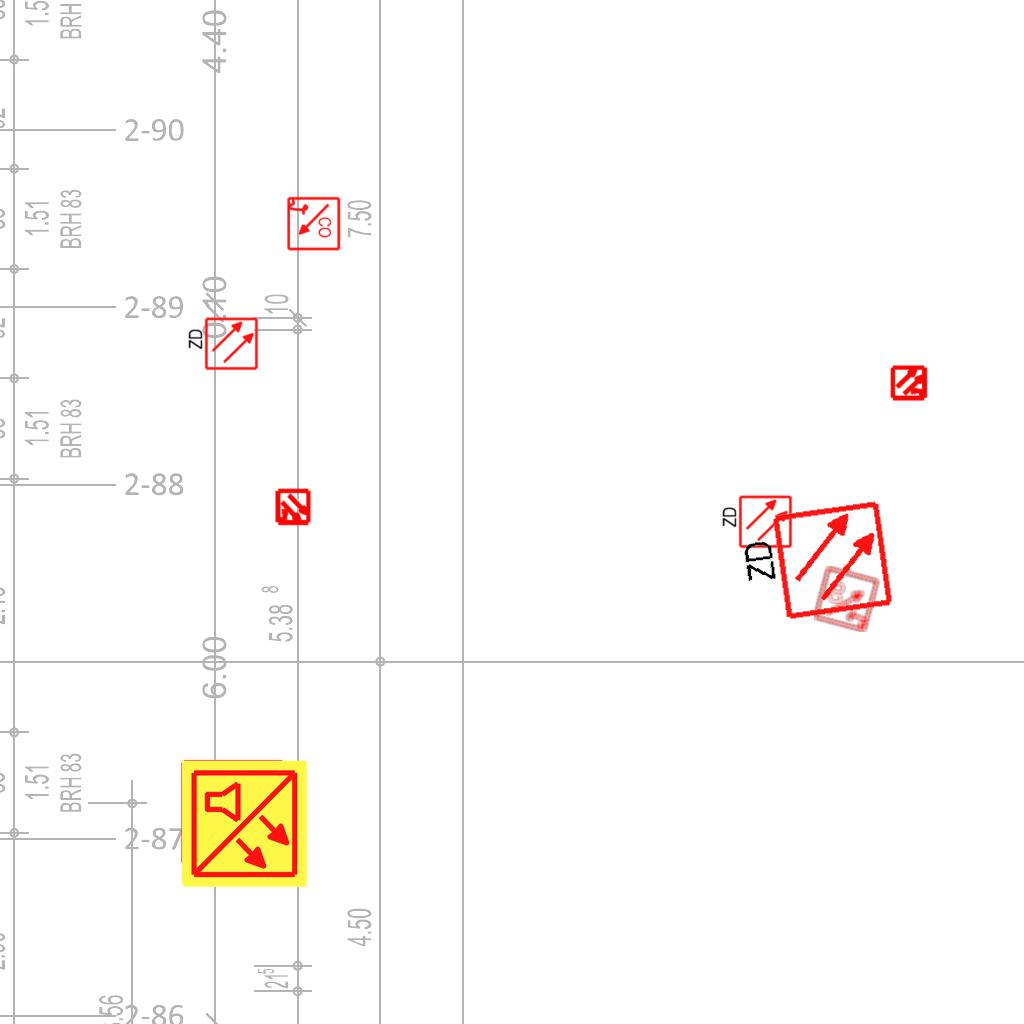OKW_Multisensormelder_(Kombination_optischer_Rauch-Kahlenmonoxid_Waerme-Melder): (178, 758, 310, 890)
OT_Multisensormelder_(Kombination_RMO_WMD): (265, 480, 321, 536), (882, 355, 938, 411)
ROA_Rauchmelder_optisch_mit_Signalgeber_(Sockelsirene): (812, 564, 882, 634), (285, 196, 341, 252)
ZD_Melder_in_Zwischendecke_mit_Revisionsoeffnung_mind_40_x_40_cm: (732, 497, 896, 632), (719, 494, 793, 551), (185, 316, 259, 373)
